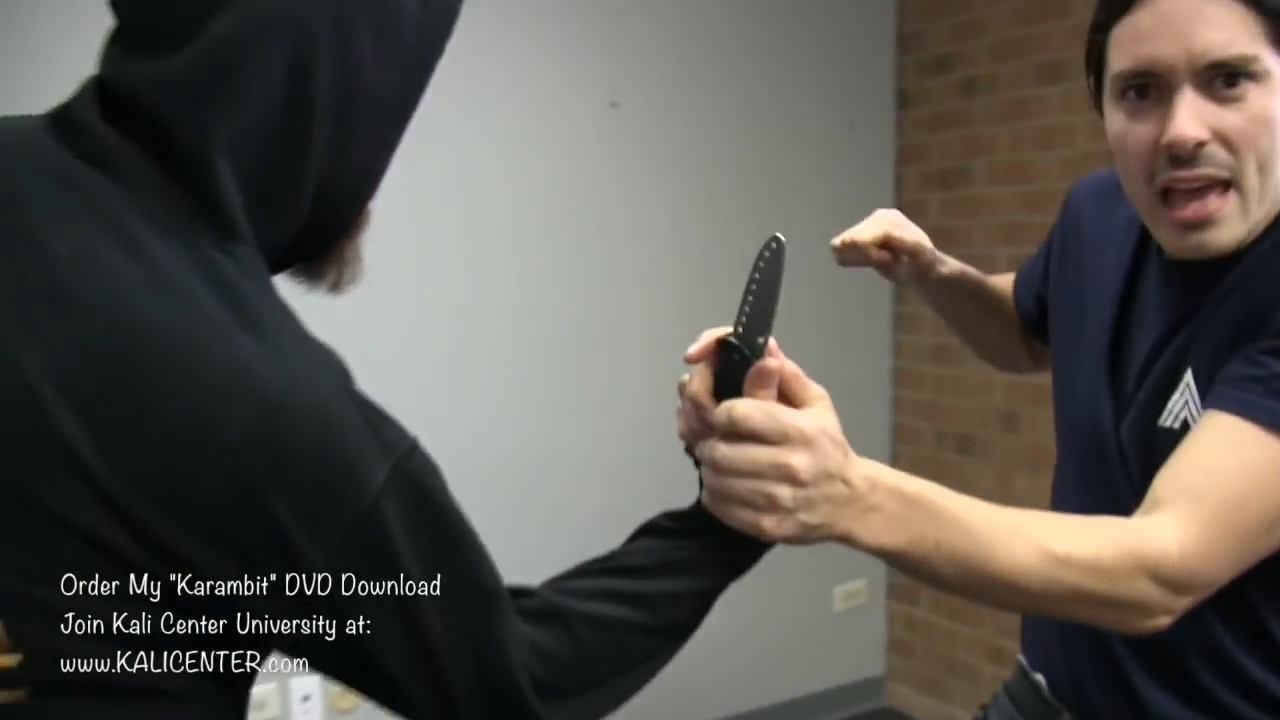knife: (669, 219, 802, 461)
